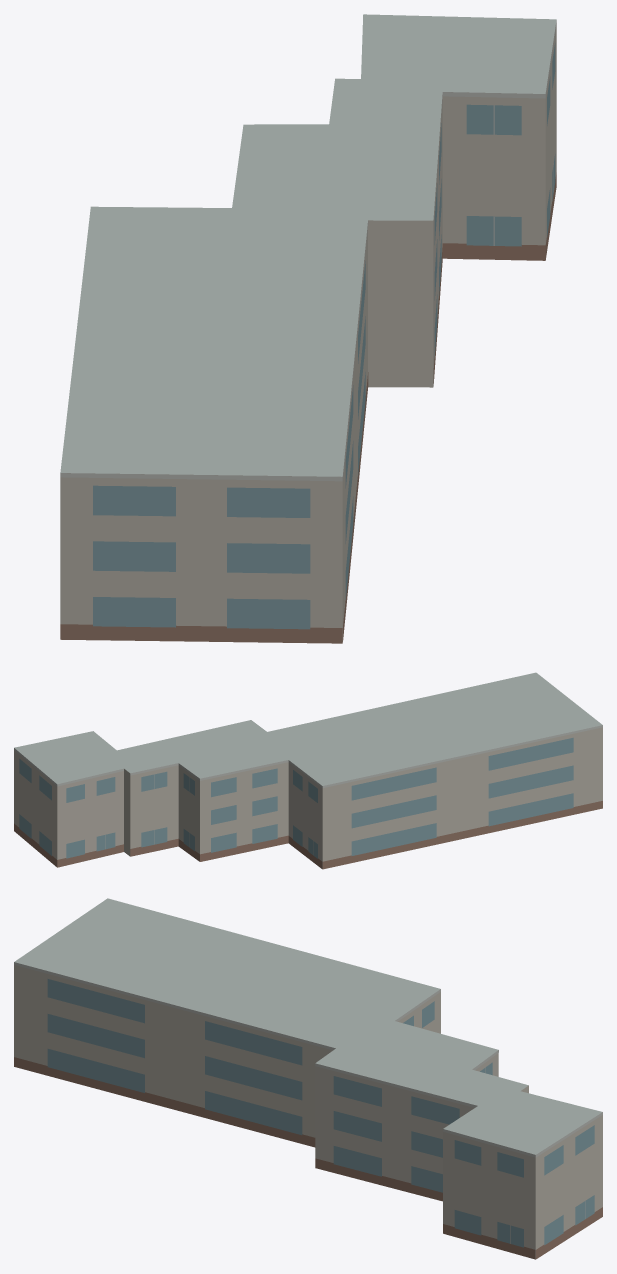
Rendered from survey-upis-33003059.glb.
The picture shows the model from 3 angles, top to bottom: view 1: azimuth 30°, elevation 25°; view 2: azimuth 150°, elevation 25°; view 3: azimuth 270°, elevation 25°; orthographic projection. The views are drawn at different scales.
Visible parts, largest first — view 1: survey-upis-33003059.tmp; view 2: survey-upis-33003059.tmp; view 3: survey-upis-33003059.tmp.
Part boxes in pixels (x1,y1,x2,y2): survey-upis-33003059.tmp: (60, 14, 556, 643); survey-upis-33003059.tmp: (14, 672, 602, 869); survey-upis-33003059.tmp: (14, 898, 602, 1259).
Bounding box in the file's own units: 48.08 × 9.15 × 46.63.
